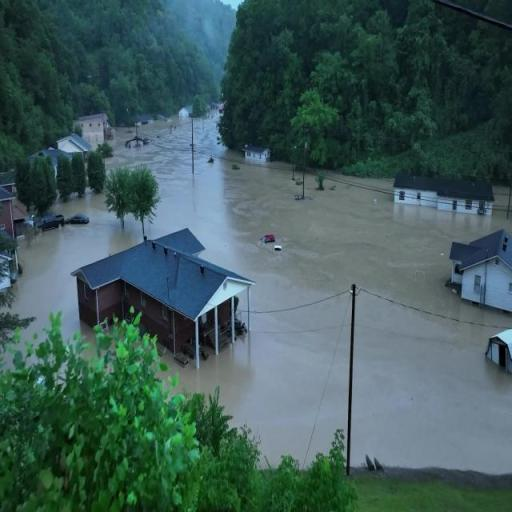flood: (111, 119, 512, 474), (12, 195, 139, 336)
house: (70, 228, 252, 360), (447, 228, 512, 313), (390, 170, 494, 218), (485, 328, 512, 374), (0, 183, 23, 235), (81, 112, 107, 150), (0, 250, 19, 290), (56, 134, 91, 154), (244, 144, 271, 162), (179, 105, 192, 118)
